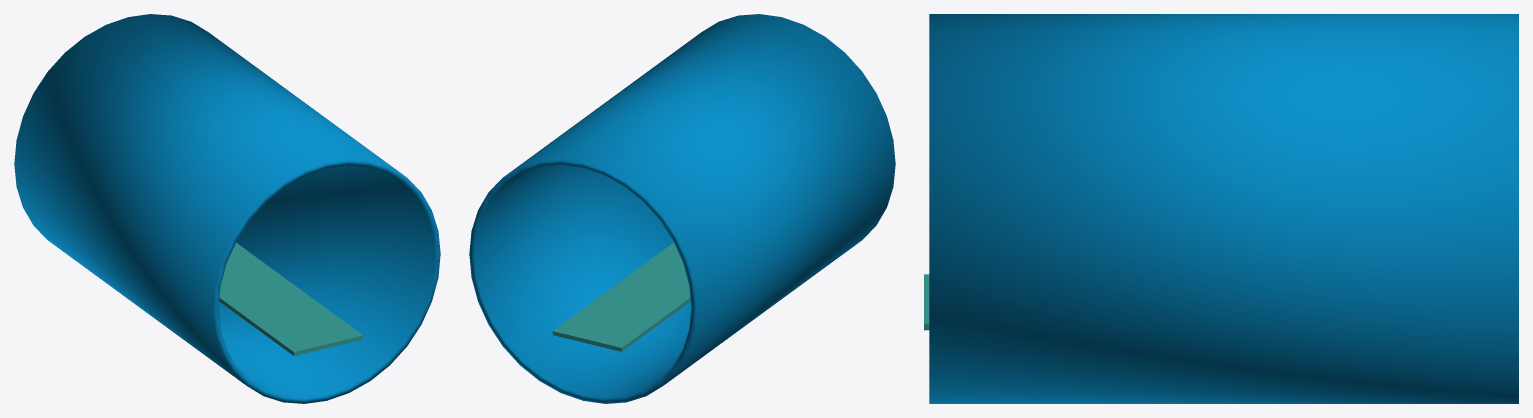
File: MESegment1.fbx
3 views of the same model, side by side, from view 1: azimuth 30°, elevation 25°; view 2: azimuth 150°, elevation 25°; view 3: azimuth 270°, elevation 25° (orthographic). The views are drawn at different scales.
Parts seen in each view (by area): view 1: MEFirstSegment, Cube.007; view 2: MEFirstSegment, Cube.007; view 3: MEFirstSegment.
Part boxes in pixels (x1,y1,x2,y2): MEFirstSegment: [14, 14, 440, 403]; Cube.007: [219, 242, 362, 355]; MEFirstSegment: [469, 14, 895, 403]; Cube.007: [552, 242, 690, 351]; MEFirstSegment: [929, 14, 1518, 403].
Bounding box in the file's own units: 199 × 303 × 199.
